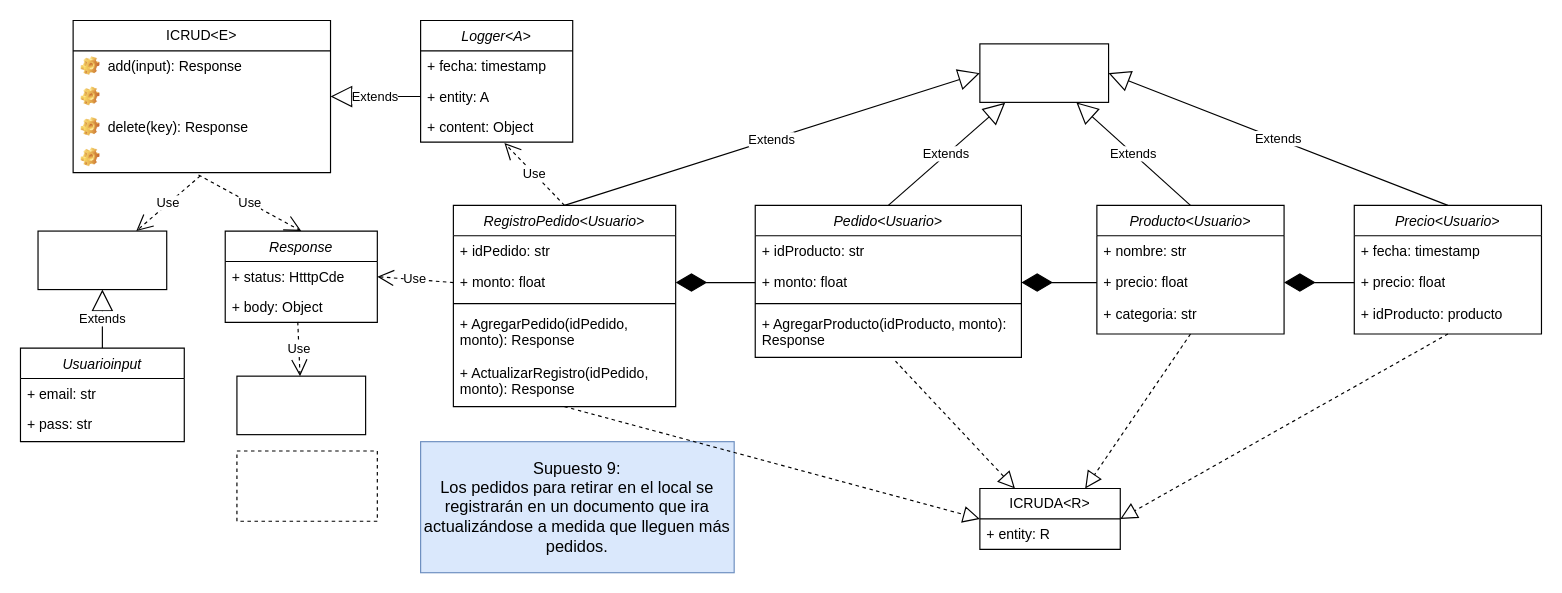
The diagram is 1562 pixels wide and 593 high, and some of its shapes have lost their labels. Here are the shapes that lost their labels. From the top down, the centre of each, then its label:
point (1044, 72): «interface» ICRUD
point (201, 96): update(key, input): Response
point (201, 157): query(key): Response
point (102, 260): «interface» input
point (301, 405): HttpCode
point (306, 485): 200: OK 400: Not Allowed 404: Not Found
